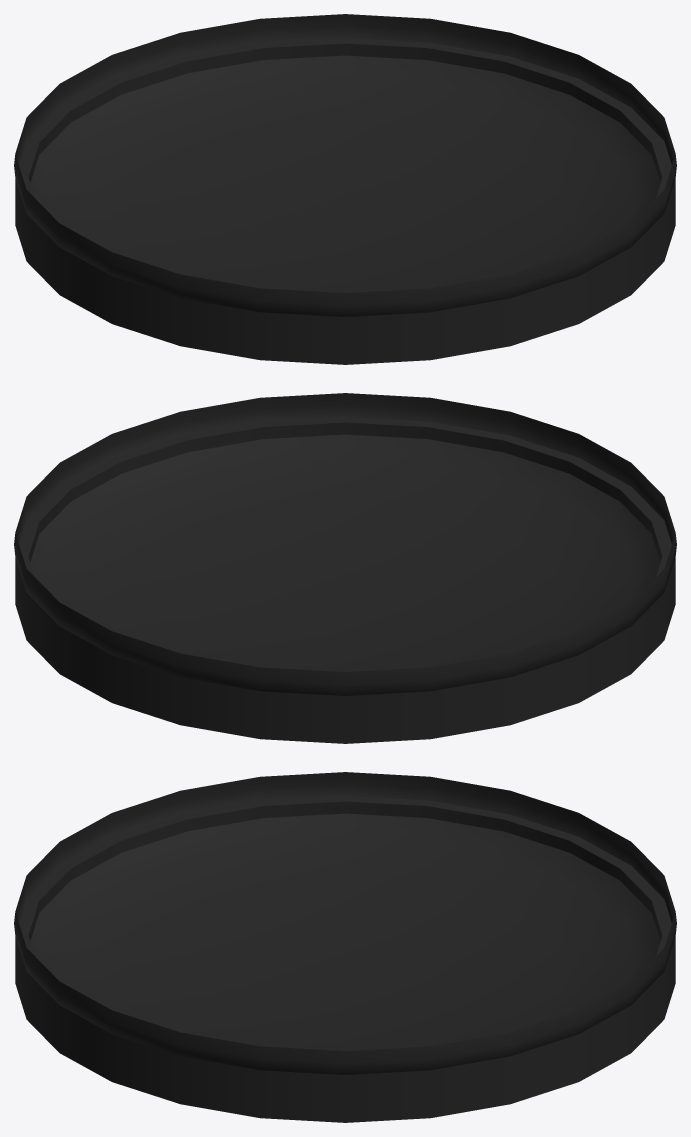
The model's file is tantares_heatshield_s1_1.obj.
The picture shows the model from 3 angles, top to bottom: view 1: azimuth 30°, elevation 25°; view 2: azimuth 150°, elevation 25°; view 3: azimuth 270°, elevation 25°; orthographic projection.
Parts seen in each view (by area): view 1: mesh, fairing; view 2: mesh, fairing; view 3: mesh, fairing.
Boxes of the visible parts, x1,y1,x2,y2 form: mesh: [14, 14, 676, 316]; fairing: [15, 38, 675, 364]; mesh: [14, 393, 676, 695]; fairing: [15, 417, 675, 743]; mesh: [14, 772, 676, 1074]; fairing: [15, 796, 675, 1122].
Bounding box in the file's own units: 1.25 × 0.15 × 1.25.
